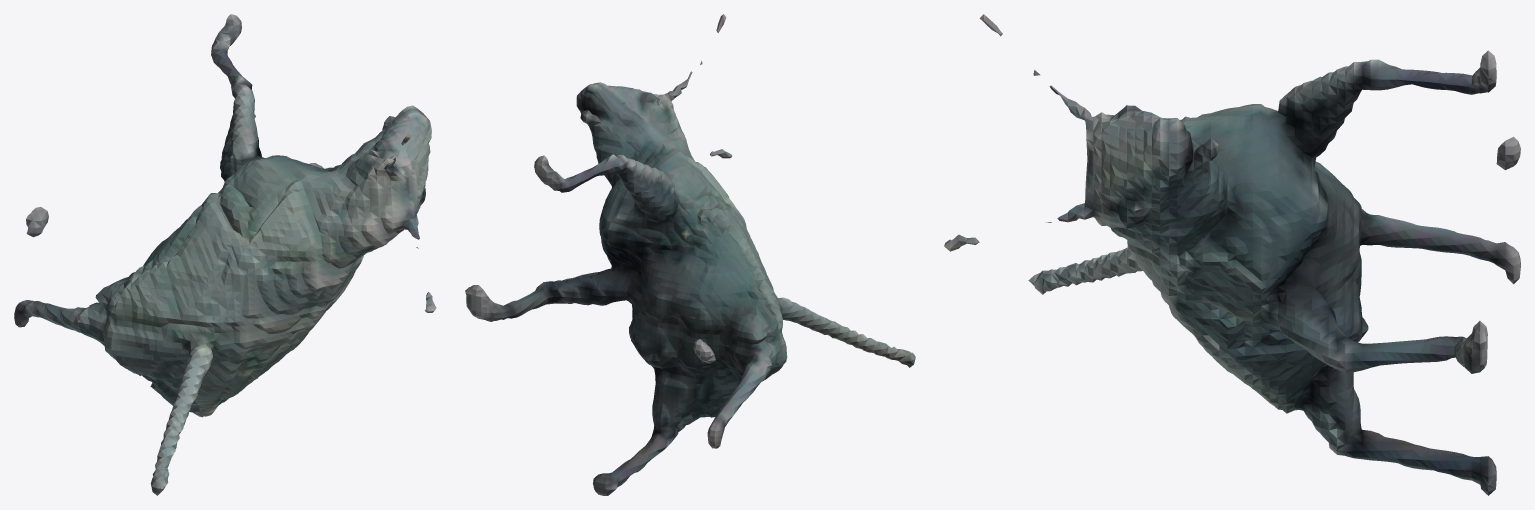
3 renders of one model, left to right at view 1: azimuth 30°, elevation 25°; view 2: azimuth 150°, elevation 25°; view 3: azimuth 270°, elevation 25°, orthographic. The views are drawn at different scales.
Parts seen in each view (by area): view 1: world; view 2: world; view 3: world.
Part boxes in pixels (x1=…): world: x1=14, y1=14, x2=436, y2=495; world: x1=465, y1=14, x2=915, y2=495; world: x1=944, y1=14, x2=1520, y2=495.
Bounding box in the file's own units: 0.846 × 0.9244 × 0.9401.
